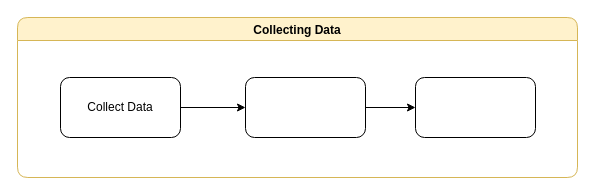
This 595x195 diagram has some shape labels left out. Here are the shapes that lost their labels. From the top down, the centre of each, then its label:
(x=305, y=107): CSV
(x=475, y=107): Speadsheet
